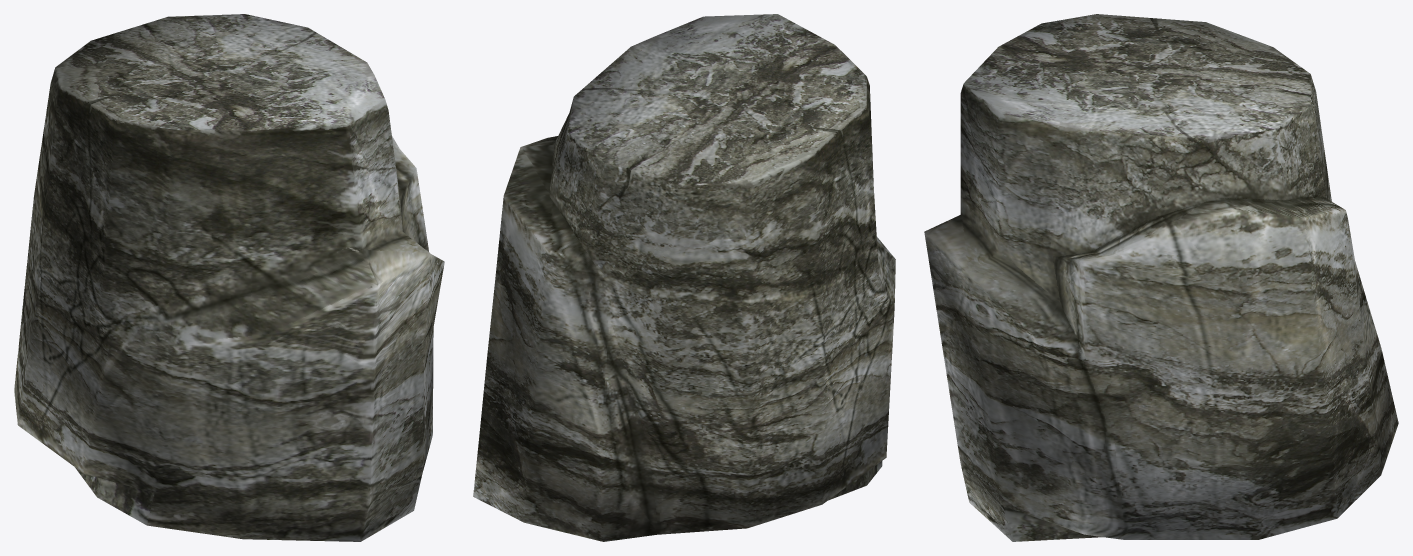
Rendered from SM_Rock04.FBX.
3 renders of one model, left to right at view 1: azimuth 30°, elevation 25°; view 2: azimuth 150°, elevation 25°; view 3: azimuth 270°, elevation 25°, orthographic. The views are drawn at different scales.
Visible parts, largest first — view 1: SM_Rock04; view 2: SM_Rock04; view 3: SM_Rock04.
Boxes of the visible parts, <box> form: SM_Rock04: <box>14,14,444,541</box>; SM_Rock04: <box>473,14,895,541</box>; SM_Rock04: <box>924,14,1398,541</box>.
Size of what is drawn, in the model's own units: 164 by 200 by 193.
